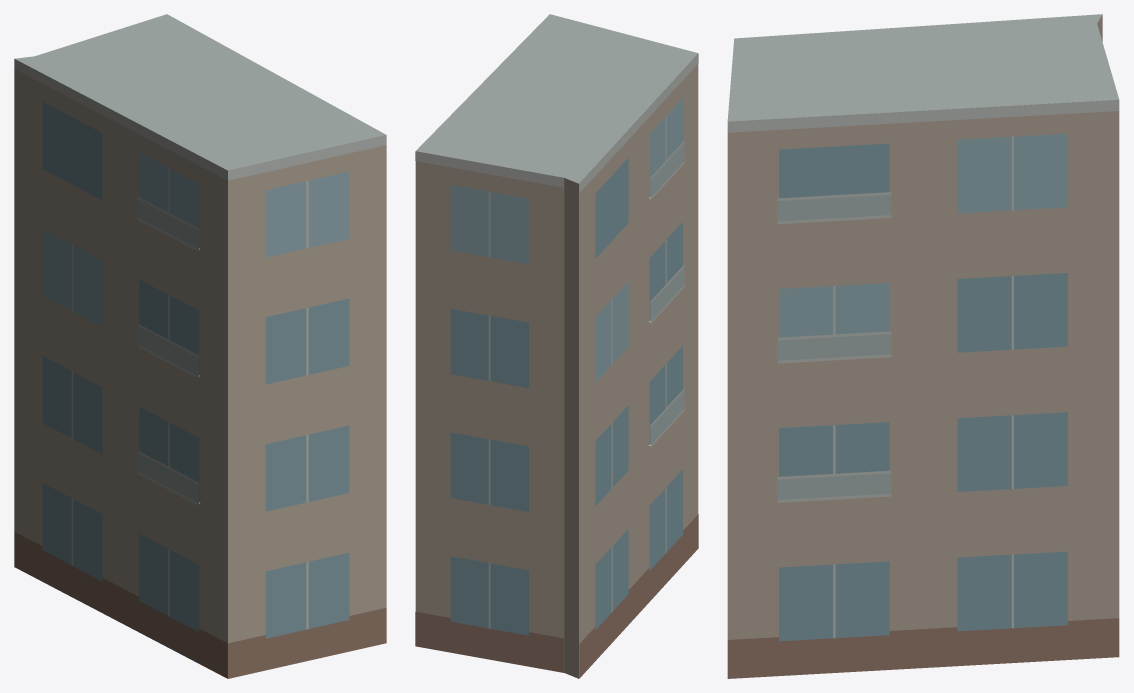
Rendered from survey-upis-32466776.glb.
The picture shows the model from 3 angles, left to right: view 1: azimuth 30°, elevation 25°; view 2: azimuth 150°, elevation 25°; view 3: azimuth 270°, elevation 25°; orthographic projection. The views are drawn at different scales.
Visible parts, largest first — view 1: survey-upis-32466776.tmp; view 2: survey-upis-32466776.tmp; view 3: survey-upis-32466776.tmp.
Boxes of the visible parts, bbox=[...] form: survey-upis-32466776.tmp: bbox=[14, 14, 386, 678]; survey-upis-32466776.tmp: bbox=[415, 14, 698, 678]; survey-upis-32466776.tmp: bbox=[727, 14, 1119, 678].
Bounding box in the file's own units: 5.06 × 12.2 × 7.79.
